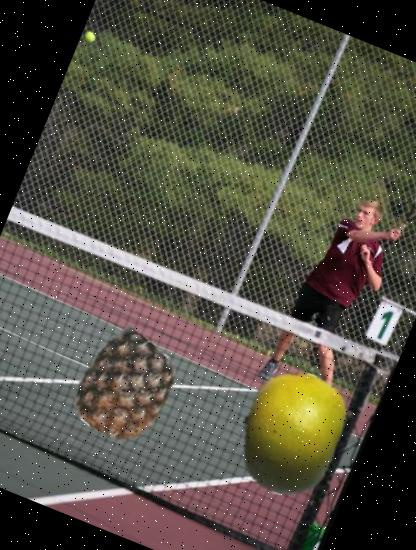Pineapple: (56, 320, 191, 455)
Pomelo: (209, 352, 372, 514)
